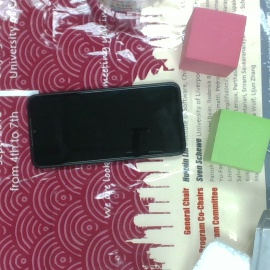phone: (28, 83, 187, 170)
